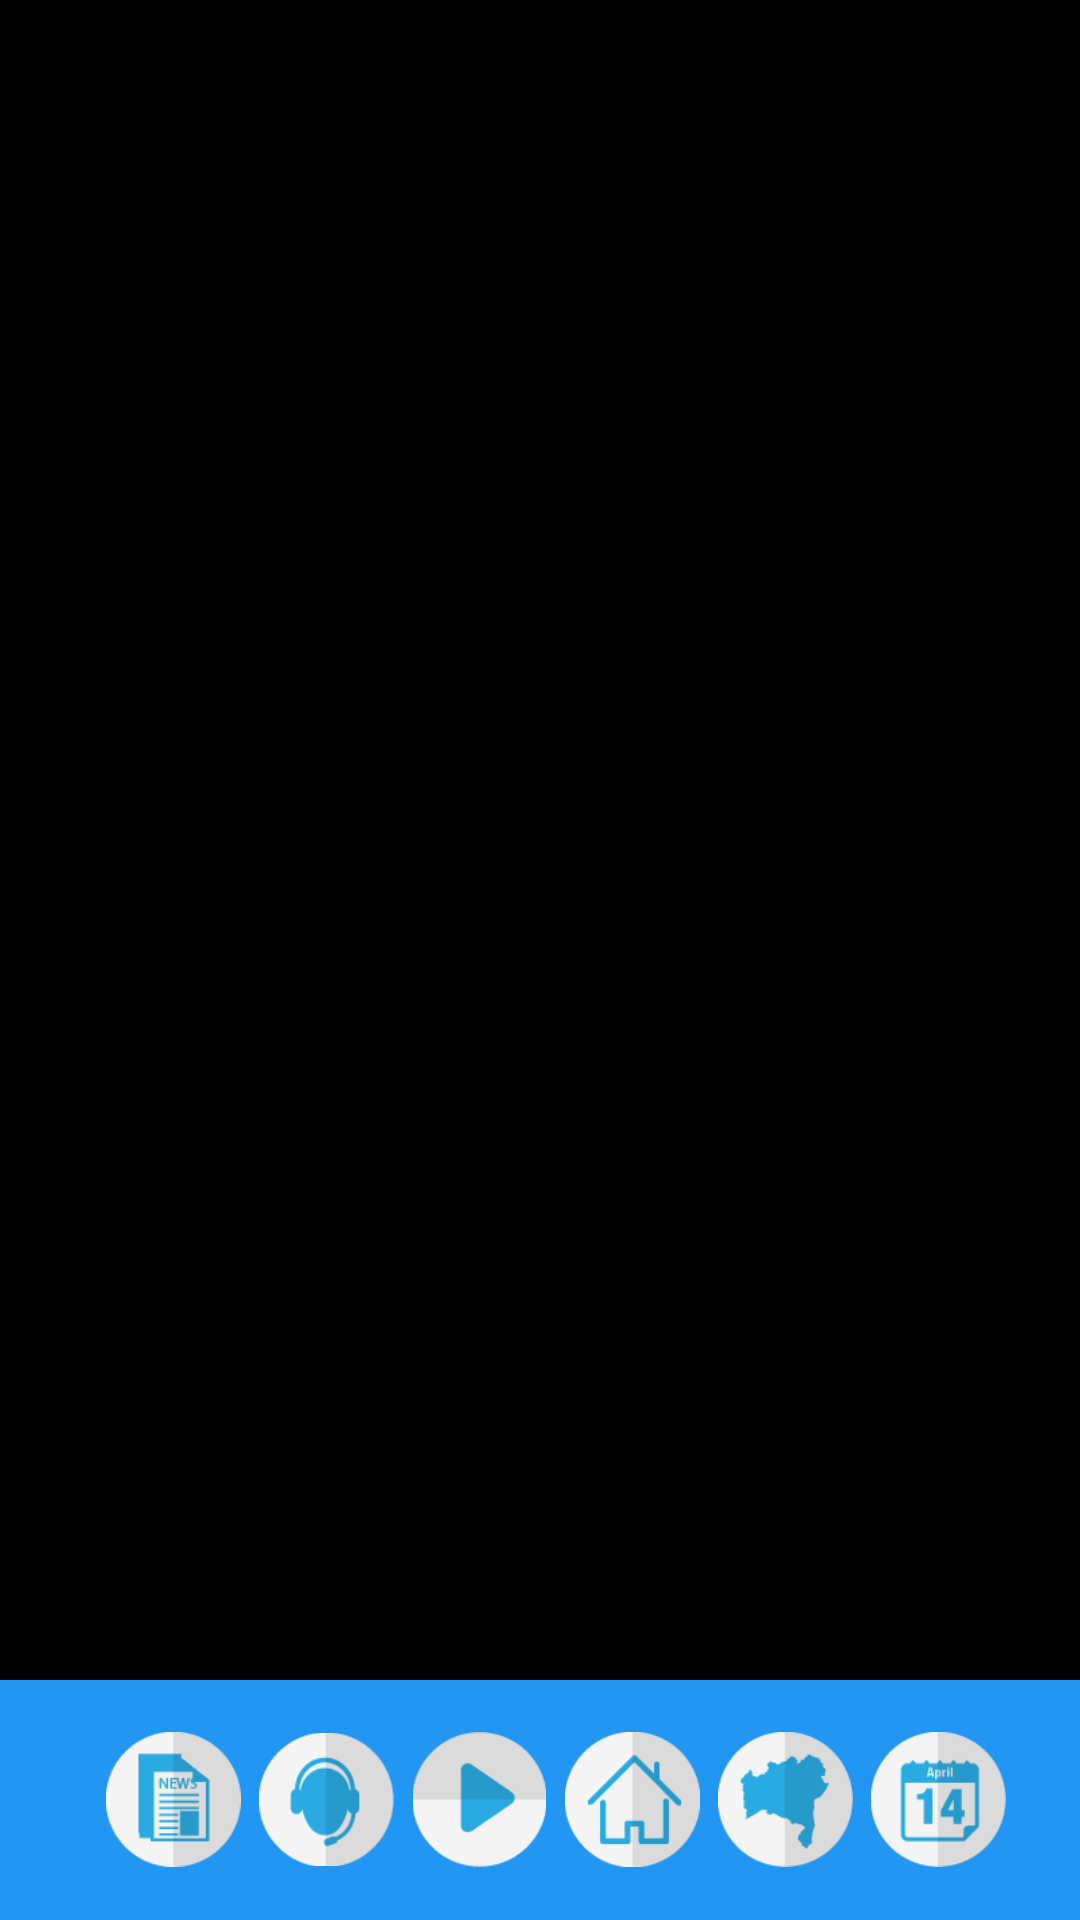

Icon bounding boxes for this 1080 x 1920 phone screenshot, format BBox(x1, y1, x2, y2):
agenda: BBox(871, 1732, 1006, 1867)
linhadir: BBox(259, 1733, 394, 1866)
mapas: BBox(718, 1732, 853, 1867)
portal: BBox(565, 1732, 700, 1867)
webtv: BBox(413, 1732, 546, 1867)
